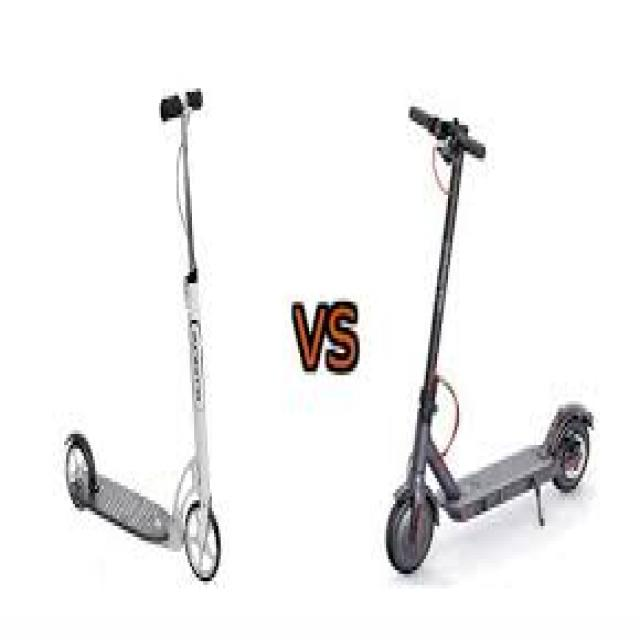bike: (385, 101, 596, 577)
